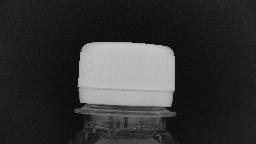Good Cap: (68, 38, 180, 122)
